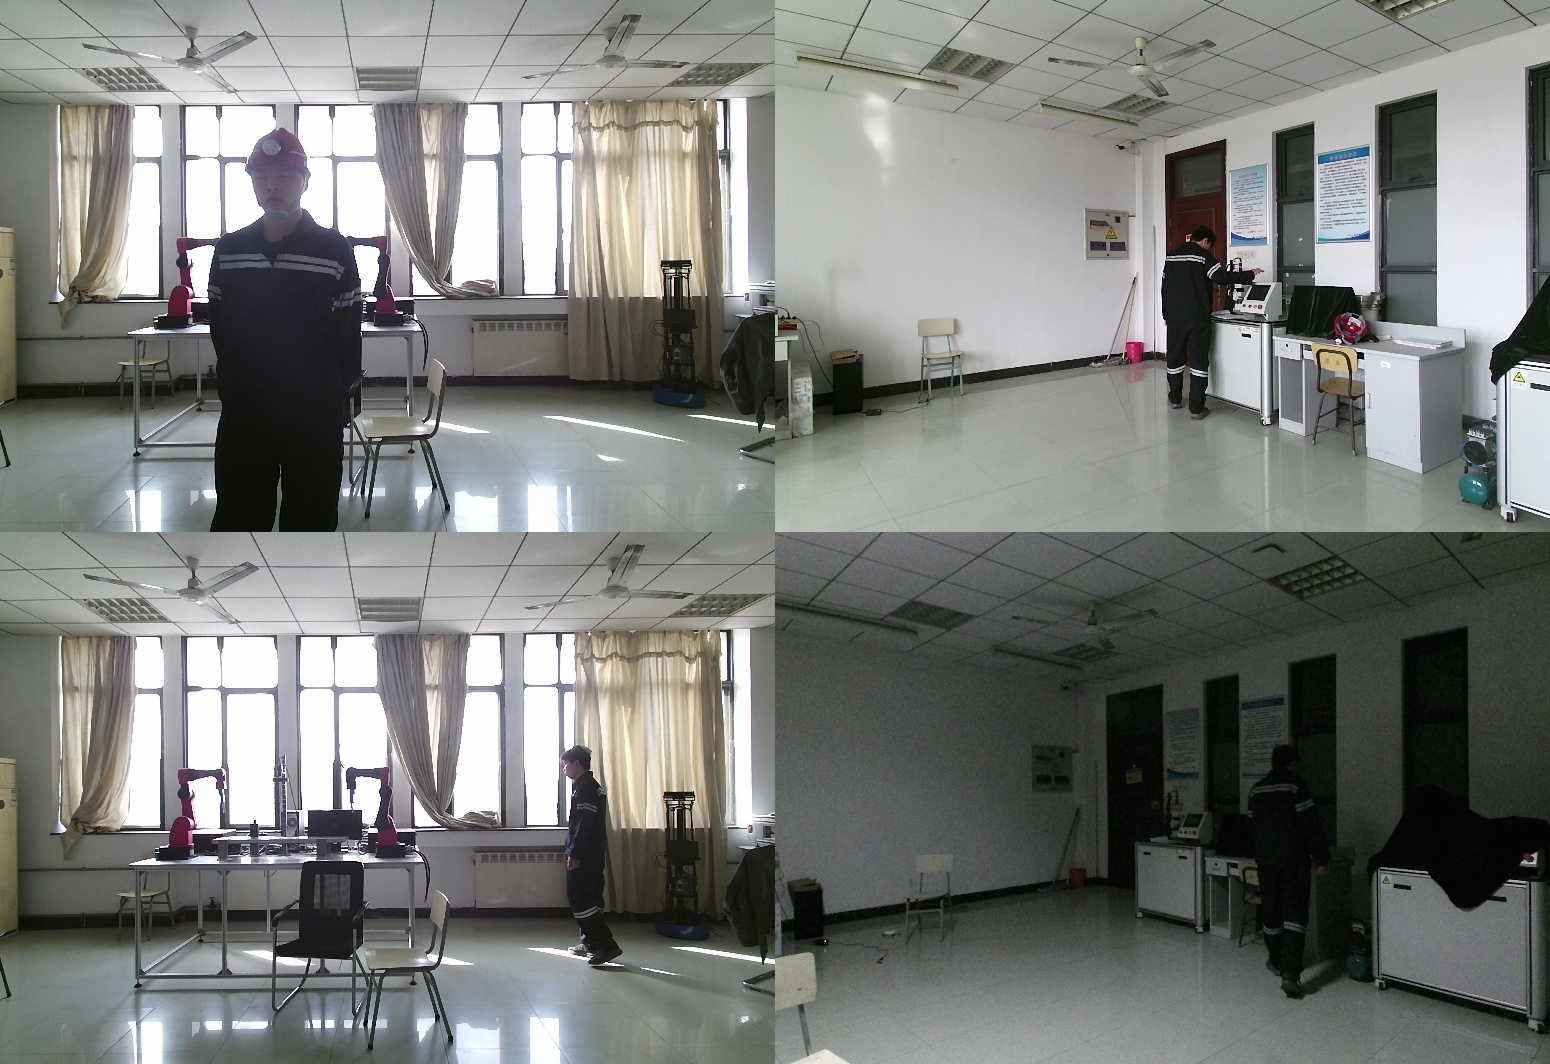person: (206, 128, 359, 532), (1246, 744, 1343, 998), (1161, 231, 1275, 420), (561, 745, 622, 966)
